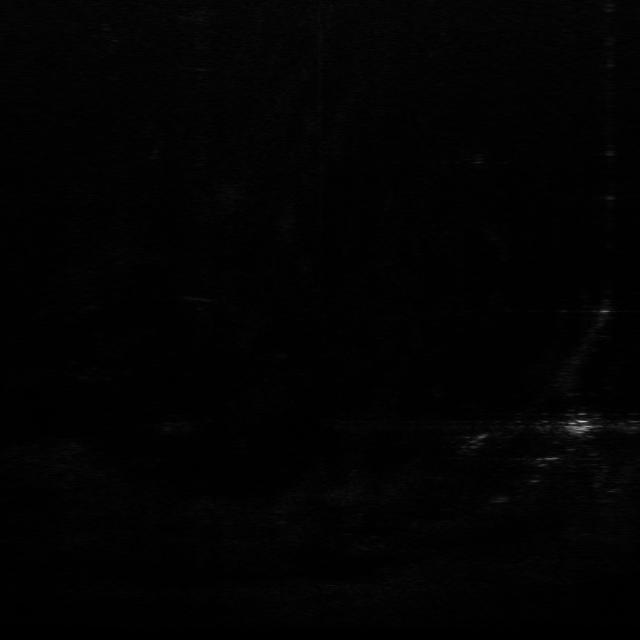rov: (562, 415, 596, 438)
